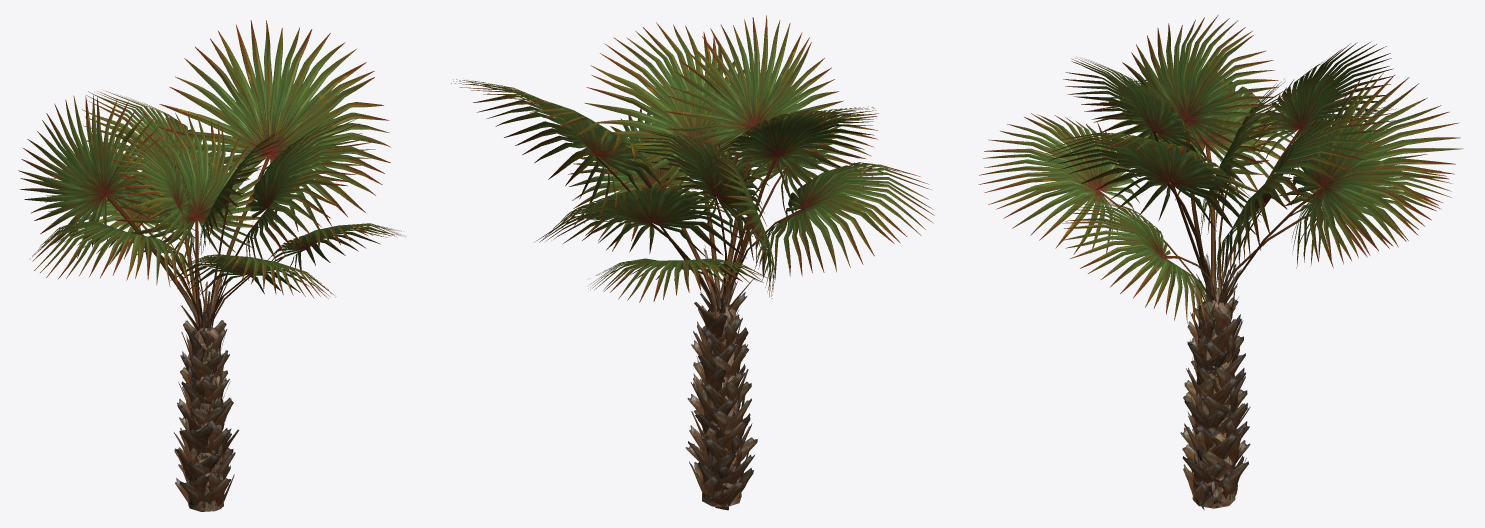
File: MK4_LataniaPalm2.DAE
3 views of the same model, side by side, from view 1: azimuth 30°, elevation 25°; view 2: azimuth 150°, elevation 25°; view 3: azimuth 270°, elevation 25° (orthographic). The views are drawn at different scales.
Visible parts, largest first — view 1: MK4_LataniaPalm2; view 2: MK4_LataniaPalm2; view 3: MK4_LataniaPalm2.
Part boxes in pixels (x1,y1,x2,y2): MK4_LataniaPalm2: (18, 20, 405, 511); MK4_LataniaPalm2: (451, 15, 934, 510); MK4_LataniaPalm2: (978, 15, 1463, 509).
Size of what is drawn, in the model's own units: 10.03 by 9.73 by 9.97.
